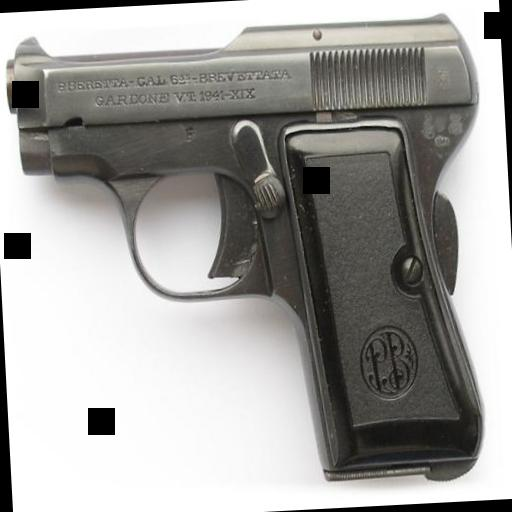Handgun: (0, 0, 492, 508)
